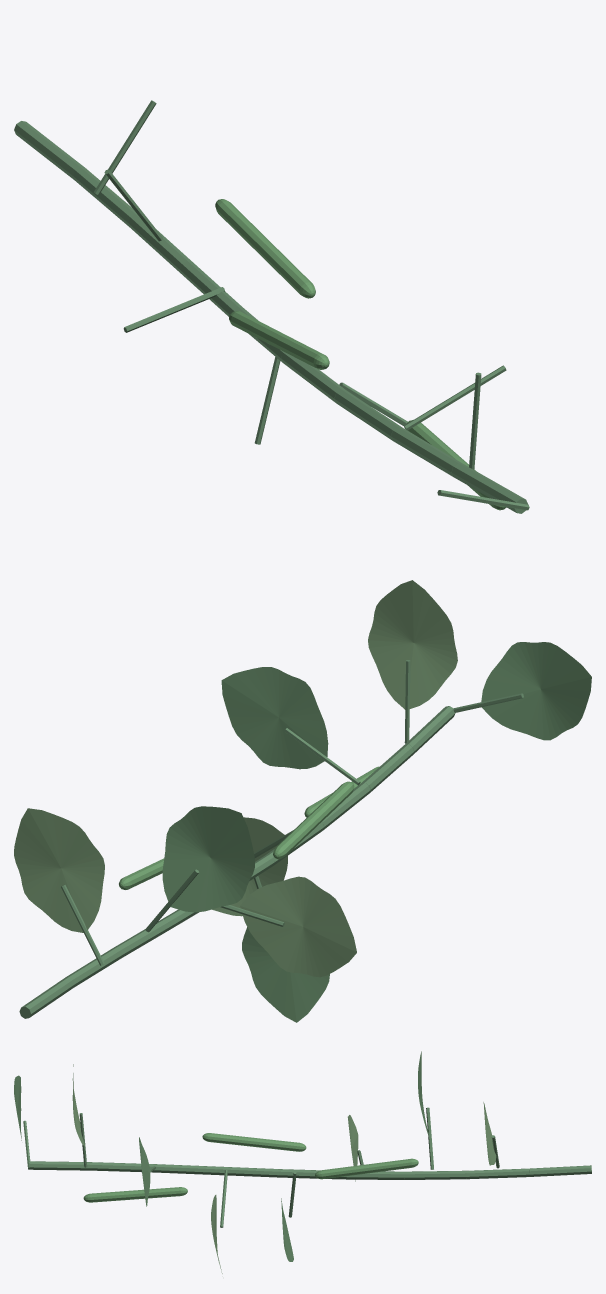
File: cucumber_c.glb
3 views of the same model, one above another, from view 1: azimuth 30°, elevation 25°; view 2: azimuth 150°, elevation 25°; view 3: azimuth 270°, elevation 25° (orthographic). The views are drawn at different scales.
Parts seen in each view (by area): view 1: Stem, FruitGreen; view 2: Leaves, Stem, FruitGreen; view 3: Stem, FruitGreen, Leaves.
Boxes of the visible parts, x1,y1,x2,y2 form: Stem: (14, 100, 529, 513); FruitGreen: (215, 199, 506, 510); Leaves: (14, 580, 591, 1022); Stem: (19, 660, 523, 1018); FruitGreen: (119, 766, 379, 889); Stem: (23, 1107, 591, 1227); FruitGreen: (83, 1133, 418, 1202); Leaves: (14, 1051, 496, 1273).
Bounding box in the file's own units: 0.7334 × 0.7515 × 1.85.
